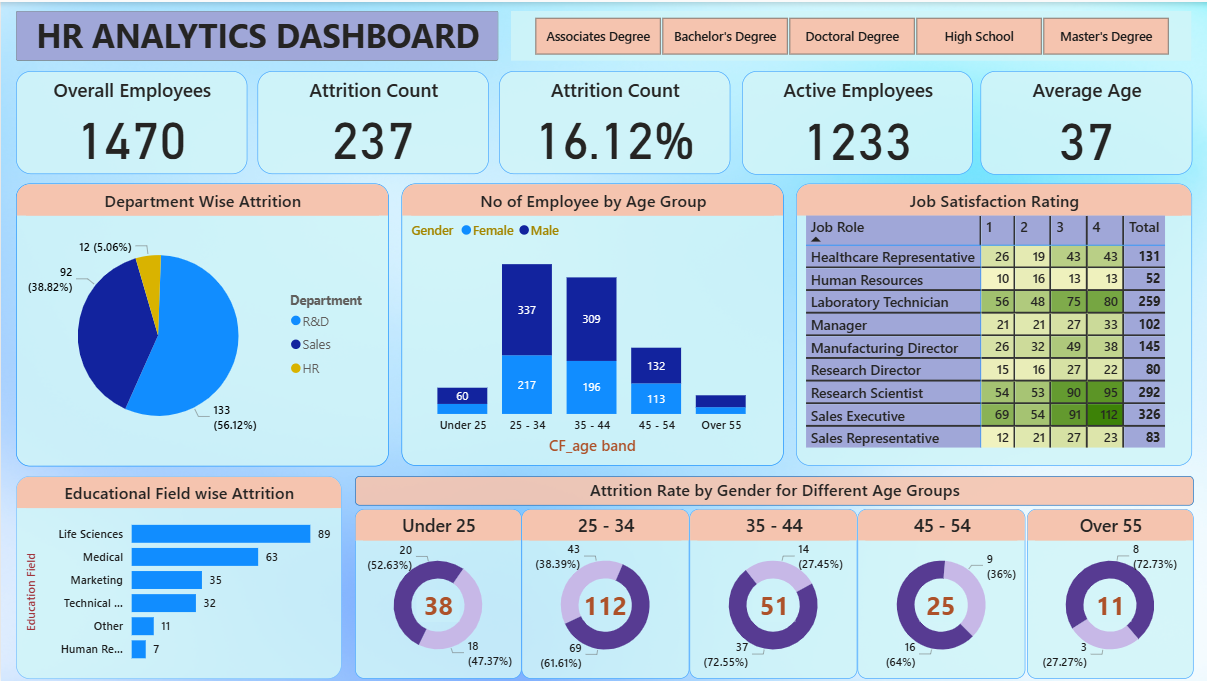

The dashboard page shown, as its layout file describes it:
{"tool":"powerbi","page":{"name":"Page 1","canvas":[1280,720],"ordinal":0},"visuals":[{"type":"card","title":"Overall Employees","fields":{"Values":["Sum(HR data.Employee Count)"]},"box":[16.3,73.3,245.2,109.6],"z":0},{"type":"card","title":"Attrition Count","fields":{"Values":["Sum(HR data.Attrition Count)"]},"box":[271.9,73.3,245.2,109.6],"z":1000},{"type":"card","title":"Attrition Count","fields":{"Values":["HR data.Attrition Rate"]},"box":[527.4,73.3,245.2,109.6],"z":2000},{"type":"card","title":"Active Employees","fields":{"Values":["HR data.Overall Employees"]},"box":[785.5,73.9,244.9,110.1],"z":3000},{"type":"card","title":"Average Age","fields":{"Values":["Avg(HR data.Age)"]},"box":[1039.1,73.9,224.6,110.1],"z":4000},{"type":"pieChart","title":"Department Wise Attrition","fields":{"Category":["HR data.Department"],"Y":["Sum(HR data.Attrition Count)"]},"box":[16.2,192.4,395,299.7],"z":5000},{"type":"columnChart","title":"No of Employee by Age Group","fields":{"Category":["HR data.CF_age band"],"Y":["Sum(HR data.Employee Count)"],"Series":["HR data.Gender"]},"box":[424.7,192.5,405.6,299],"z":6000},{"type":"pivotTable","title":"Job Satisfaction Rating","fields":{"Rows":["HR data.Job Role"],"Columns":["HR data.Job Satisfaction"],"Values":["Sum(HR data.Employee Count)"]},"box":[843,192.5,419.9,299],"z":7000},{"type":"barChart","title":"Educational Field wise Attrition","fields":{"Category":["HR data.Education Field"],"Y":["Sum(HR data.Attrition Count)"]},"box":[16,502,345,215],"z":8000},{"type":"donutChart","title":"Under 25","fields":{"Category":["HR data.Gender"],"Y":["Sum(HR data.Attrition Count)"],"Series":["HR data.CF_age band"]},"box":[375.4,537.6,176.6,179.7],"z":9000},{"type":"textbox","title":"Attrition Rate by Gender for Different Age Groups","box":[374.7,502.3,889.1,31],"z":10000},{"type":"donutChart","title":"25 - 34","fields":{"Category":["HR data.Gender"],"Y":["Sum(HR data.Attrition Count)"],"Series":["HR data.CF_age band"]},"box":[551.9,537.6,178.1,179.7],"z":11000},{"type":"donutChart","title":"35 - 44","fields":{"Category":["HR data.Gender"],"Y":["Sum(HR data.Attrition Count)"],"Series":["HR data.CF_age band"]},"box":[730.1,537.6,178.1,179.7],"z":12000},{"type":"donutChart","title":"45 - 54","fields":{"Category":["HR data.Gender"],"Y":["Sum(HR data.Attrition Count)"],"Series":["HR data.CF_age band"]},"box":[908.2,537.6,178.1,179.7],"z":13000},{"type":"donutChart","title":"Over 55","fields":{"Category":["HR data.Gender"],"Y":["Sum(HR data.Attrition Count)"],"Series":["HR data.CF_age band"]},"box":[1088,537.6,176.6,179.7],"z":14000},{"type":"card","fields":{"Values":["Sum(HR data.Attrition Count)"]},"box":[440.5,623.3,46,33.7],"z":15000},{"type":"card","fields":{"Values":["Sum(HR data.Attrition Count)"]},"box":[610.2,623.5,59.4,33.7],"z":16000},{"type":"card","fields":{"Values":["Sum(HR data.Attrition Count)"]},"box":[796.3,623.3,46,33.7],"z":17000},{"type":"card","fields":{"Values":["Sum(HR data.Attrition Count)"]},"box":[974.2,623.3,46,33.7],"z":18000},{"type":"card","fields":{"Values":["Sum(HR data.Attrition Count)"]},"box":[1153.4,623.3,46,33.7],"z":19000},{"type":"textbox","title":"HR ANALYTICS DASHBOARD","box":[15.7,10,511.4,52.9],"z":20000},{"type":"slicer","fields":{"Values":["HR data.Education"]},"box":[541.4,10,721.4,52.9],"z":21000}]}

Visuals, with their boxes in screenshot pixels (x1, y1, x2, y2), scaled from the page's 1280x720 canvas onto the 1207x681 screenshot:
"Overall Employees" card: (15,69,247,173)
"Attrition Count" card: (256,69,488,173)
"Attrition Count" card: (497,69,729,173)
"Active Employees" card: (741,70,972,174)
"Average Age" card: (980,70,1192,174)
"Department Wise Attrition" pieChart: (15,182,388,465)
"No of Employee by Age Group" columnChart: (400,182,783,465)
"Job Satisfaction Rating" pivotTable: (795,182,1191,465)
"Educational Field wise Attrition" barChart: (15,475,340,678)
"Under 25" donutChart: (354,508,521,678)
"Attrition Rate by Gender for Different Age Groups" textbox: (353,475,1192,504)
"25 - 34" donutChart: (520,508,688,678)
"35 - 44" donutChart: (688,508,856,678)
"45 - 54" donutChart: (856,508,1024,678)
"Over 55" donutChart: (1026,508,1192,678)
card - Sum(HR data.Attrition Count): (415,590,459,621)
card - Sum(HR data.Attrition Count): (575,590,631,622)
card - Sum(HR data.Attrition Count): (751,590,794,621)
card - Sum(HR data.Attrition Count): (919,590,962,621)
card - Sum(HR data.Attrition Count): (1088,590,1131,621)
"HR ANALYTICS DASHBOARD" textbox: (15,9,497,59)
slicer - HR data.Education: (511,9,1191,59)
